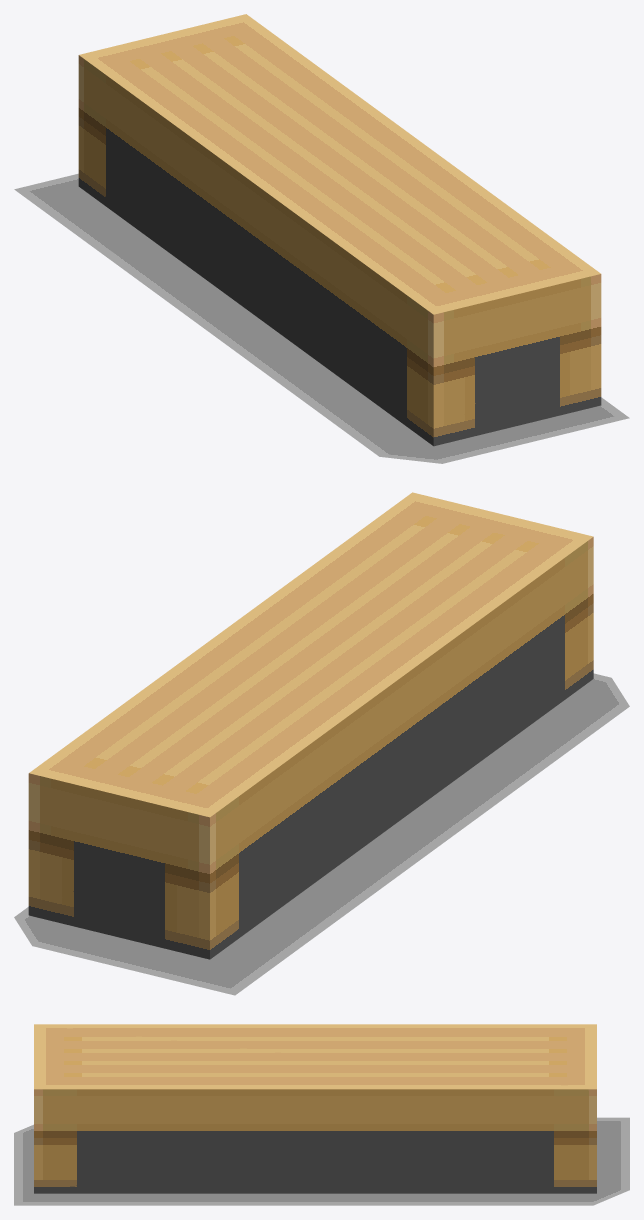
3 views of the same model, one above another, from view 1: azimuth 30°, elevation 25°; view 2: azimuth 150°, elevation 25°; view 3: azimuth 270°, elevation 25° (orthographic). The views are drawn at different scales.
Visible parts, largest first — view 1: polygon0, polygon1; view 2: polygon0, polygon1; view 3: polygon0, polygon1.
Boxes of the visible parts, box(x1,y1,x2,y2) form: polygon0: box(78, 14, 601, 446); polygon1: box(14, 173, 629, 463); polygon0: box(28, 492, 593, 959); polygon1: box(14, 673, 629, 995); polygon0: box(34, 1024, 596, 1193); polygon1: box(14, 1117, 629, 1205).
Size of the model in its own units: 4.07 by 2.38 by 12.04.
